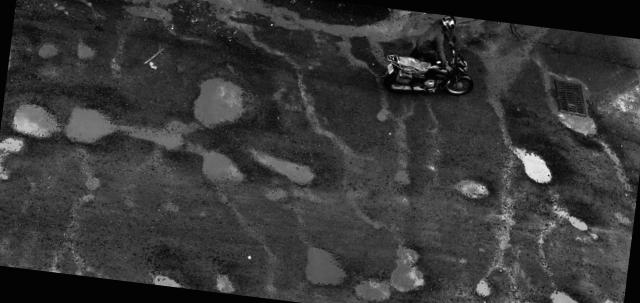Pothole: (126, 70, 270, 180), (526, 56, 640, 160), (145, 245, 254, 295), (353, 235, 431, 303), (247, 150, 330, 194), (4, 86, 66, 142), (499, 138, 558, 196), (62, 96, 121, 152), (300, 243, 352, 288), (450, 164, 500, 208), (549, 201, 599, 232), (540, 273, 586, 303), (463, 273, 506, 303), (68, 38, 111, 66), (78, 173, 105, 210), (36, 35, 70, 60), (601, 292, 624, 303)
